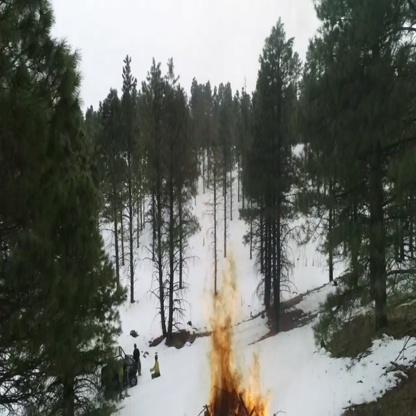Fire: (214, 300, 236, 415), (237, 354, 269, 416), (224, 264, 238, 299)
